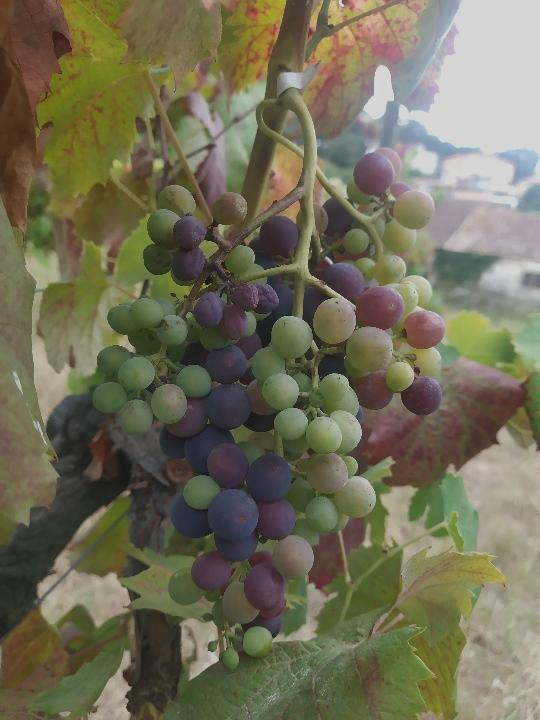grape: (86, 142, 448, 674)
